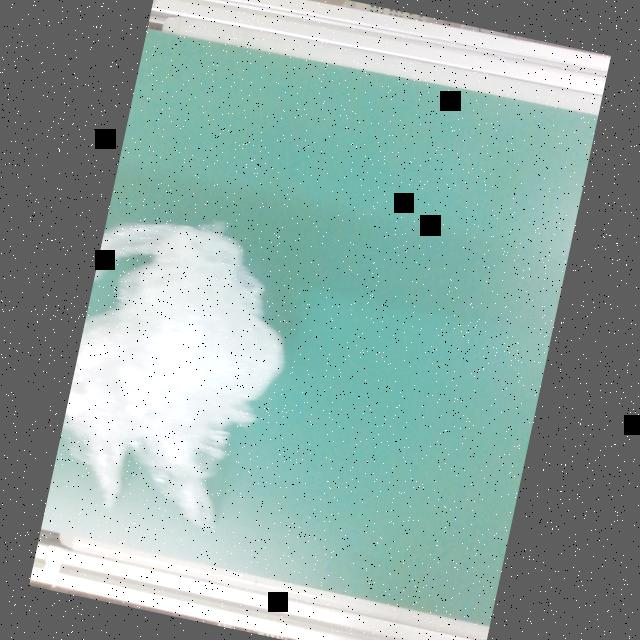scrap_plastic: (47, 195, 316, 546)
